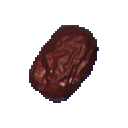gd: (22, 19, 101, 107)
